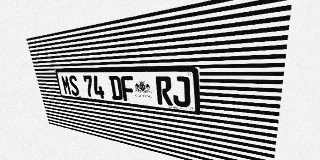4: (91, 76, 105, 99)
7: (82, 75, 95, 98)
D: (109, 76, 123, 101)
F: (120, 76, 135, 102)
J: (172, 76, 190, 108)
M: (60, 75, 72, 95)
R: (155, 76, 173, 106)
S: (68, 75, 80, 96)
